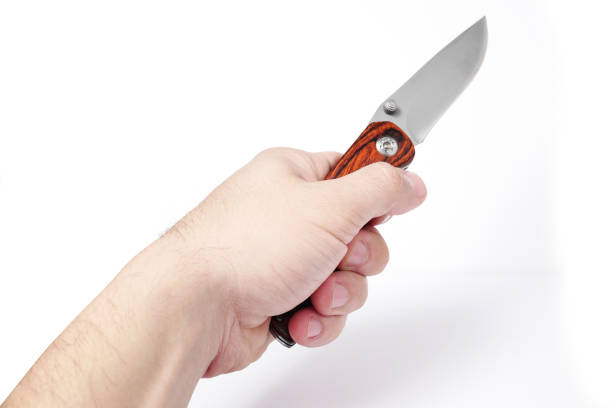knife: (267, 15, 491, 349)
